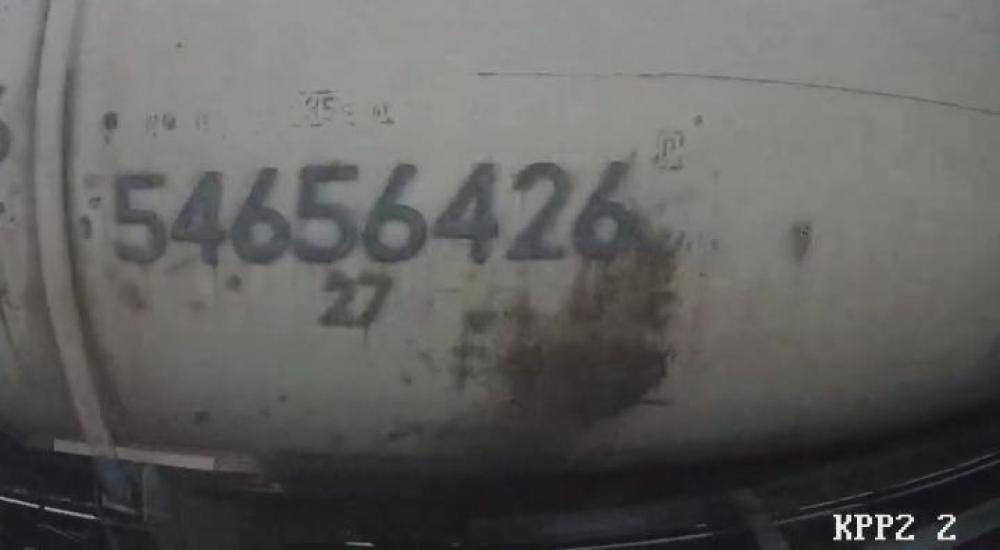Wagon-number: (109, 153, 640, 275)
